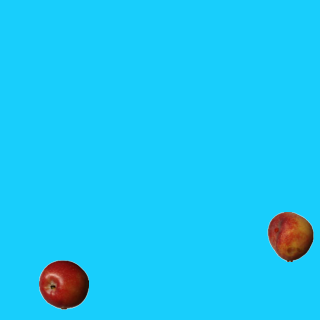Apple Braeburn: (38, 259, 88, 309)
Peach: (265, 211, 315, 261)
